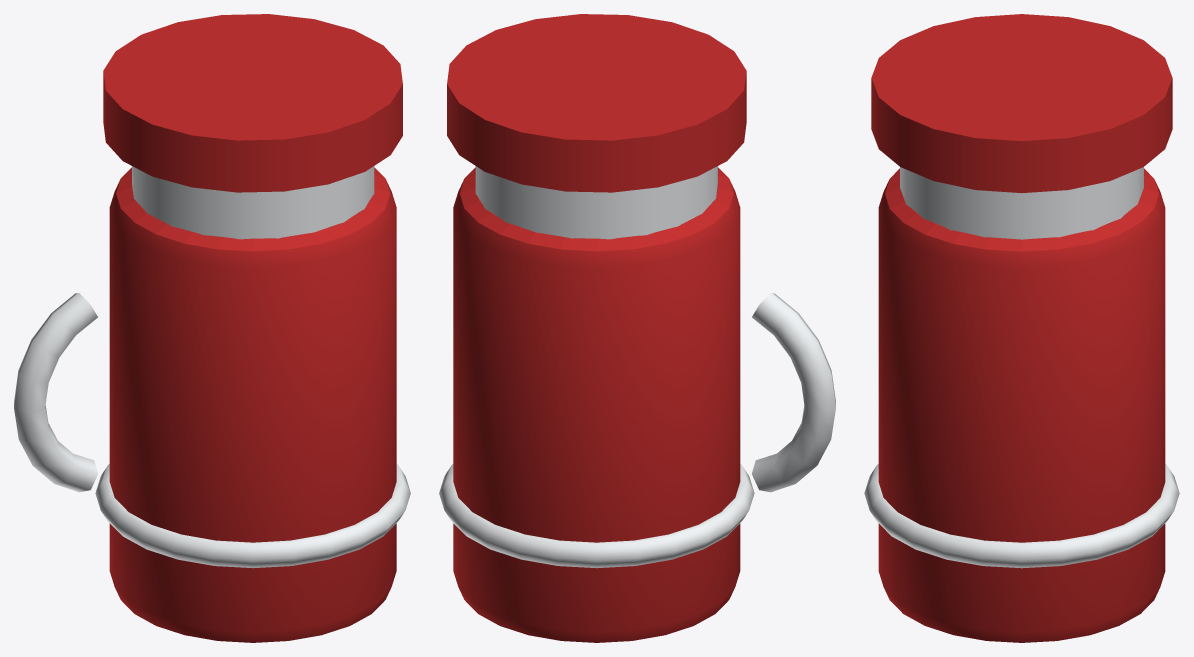
Rendered from thermos.fbx.
The picture shows the model from 3 angles, left to right: view 1: azimuth 30°, elevation 25°; view 2: azimuth 150°, elevation 25°; view 3: azimuth 270°, elevation 25°; orthographic projection.
Visible parts, largest first — view 1: Cocoa Thermos; view 2: Cocoa Thermos; view 3: Cocoa Thermos.
Part boxes in pixels (left/top/right/bottom): Cocoa Thermos: left=14, top=14, right=410, bottom=642; Cocoa Thermos: left=439, top=14, right=835, bottom=642; Cocoa Thermos: left=864, top=14, right=1179, bottom=642.
Size of the model in its own units: 0.605 by 0.79 by 0.44.
